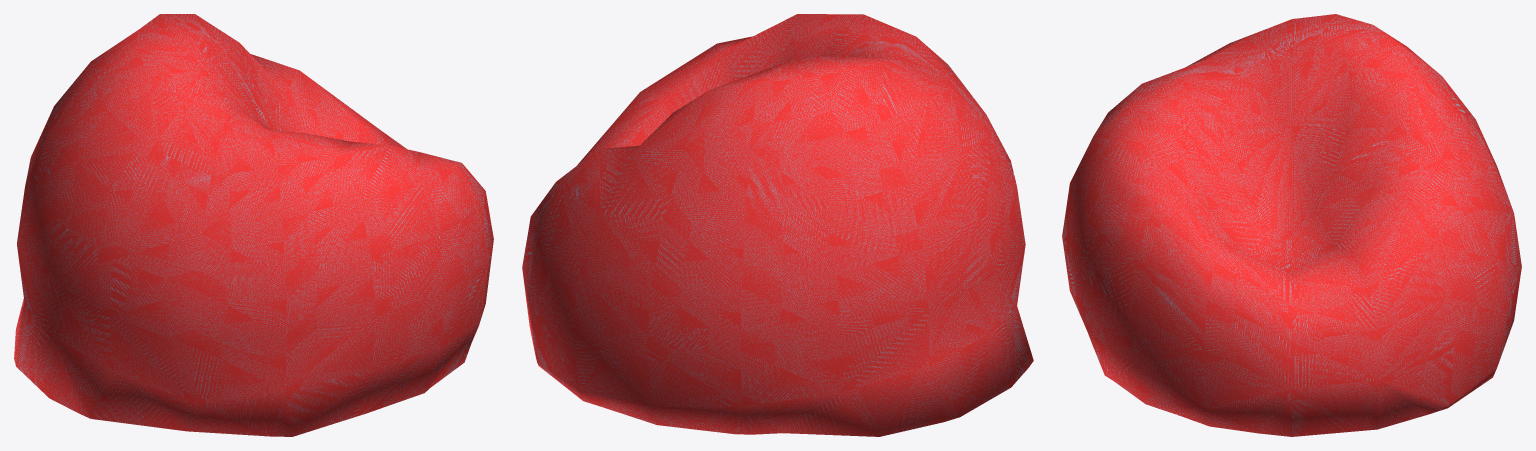
File: Beanbag.dae
3 views of the same model, side by side, from view 1: azimuth 30°, elevation 25°; view 2: azimuth 150°, elevation 25°; view 3: azimuth 270°, elevation 25° (orthographic). The views are drawn at different scales.
Visible parts, largest first — view 1: group_0; view 2: group_0; view 3: group_0.
Part boxes in pixels (x1,y1,x2,y2): group_0: [14, 14, 493, 436]; group_0: [522, 14, 1033, 436]; group_0: [1062, 14, 1521, 436].
Size of the model in its own units: 118 by 116 by 79.18.
